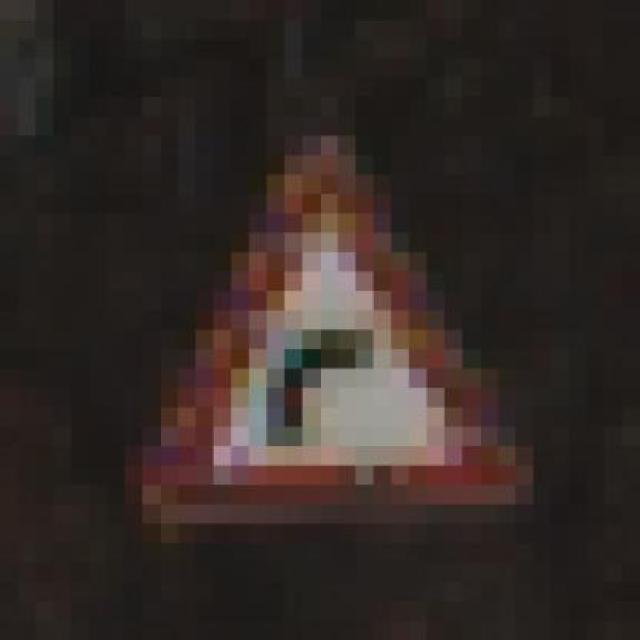Dangerous Rright Curve Ahead: (143, 135, 552, 563)
